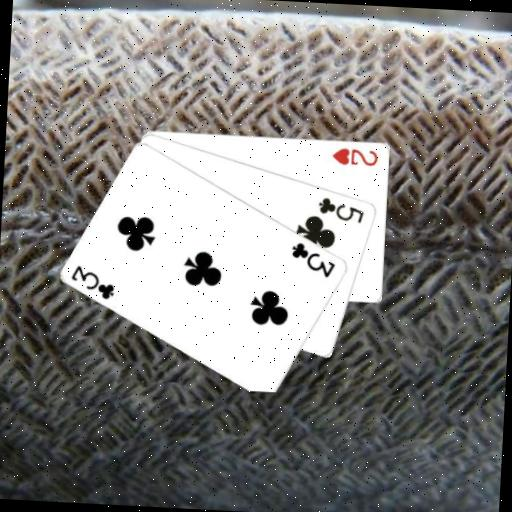2H: (329, 144, 381, 168)
3C: (288, 239, 339, 280), (68, 261, 118, 302)
5C: (315, 194, 367, 225)
